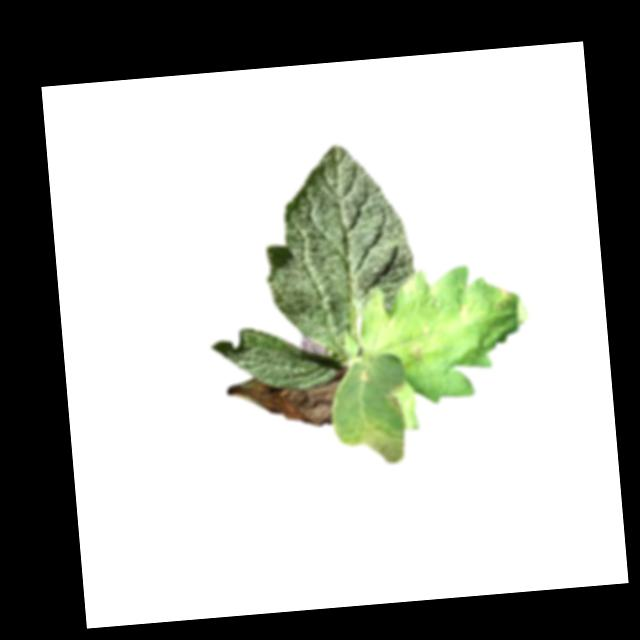Late_blight: (228, 371, 346, 433), (337, 422, 406, 468), (490, 283, 518, 312), (405, 337, 434, 364), (383, 384, 408, 411), (453, 296, 474, 323), (359, 362, 375, 386)
healthy: (256, 138, 424, 363), (209, 320, 349, 395)
